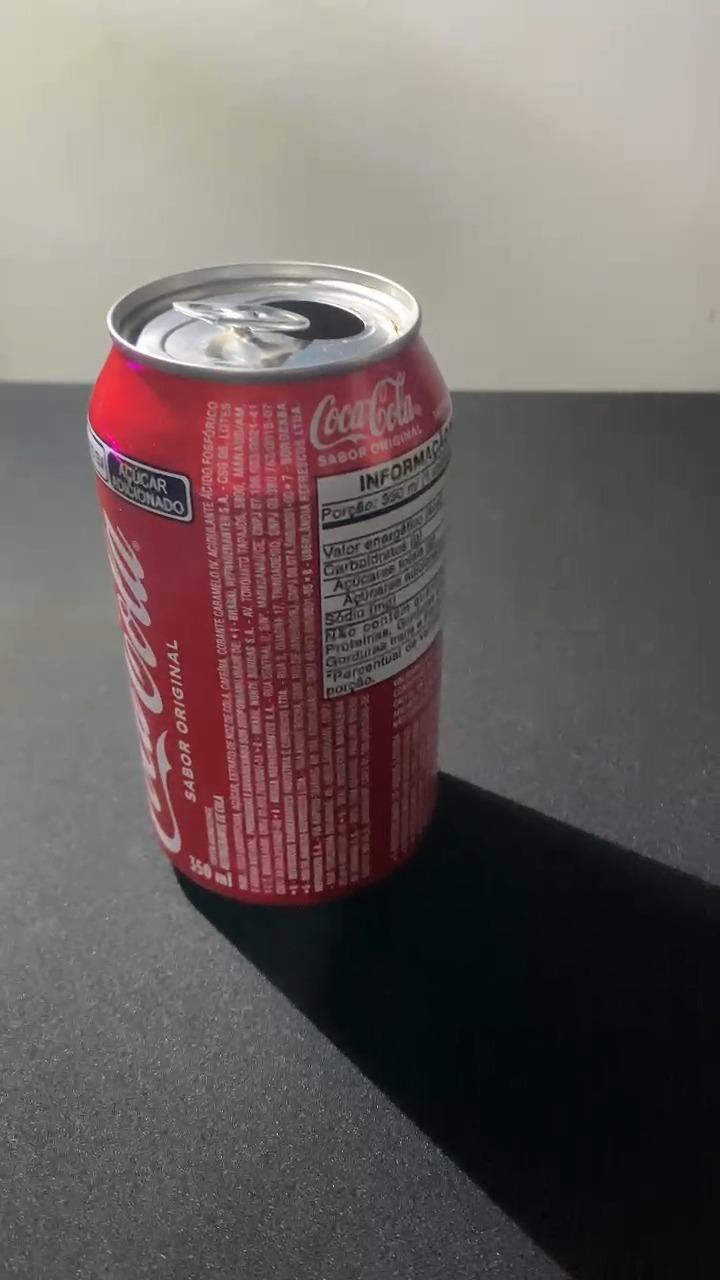coke: (91, 265, 454, 900)
